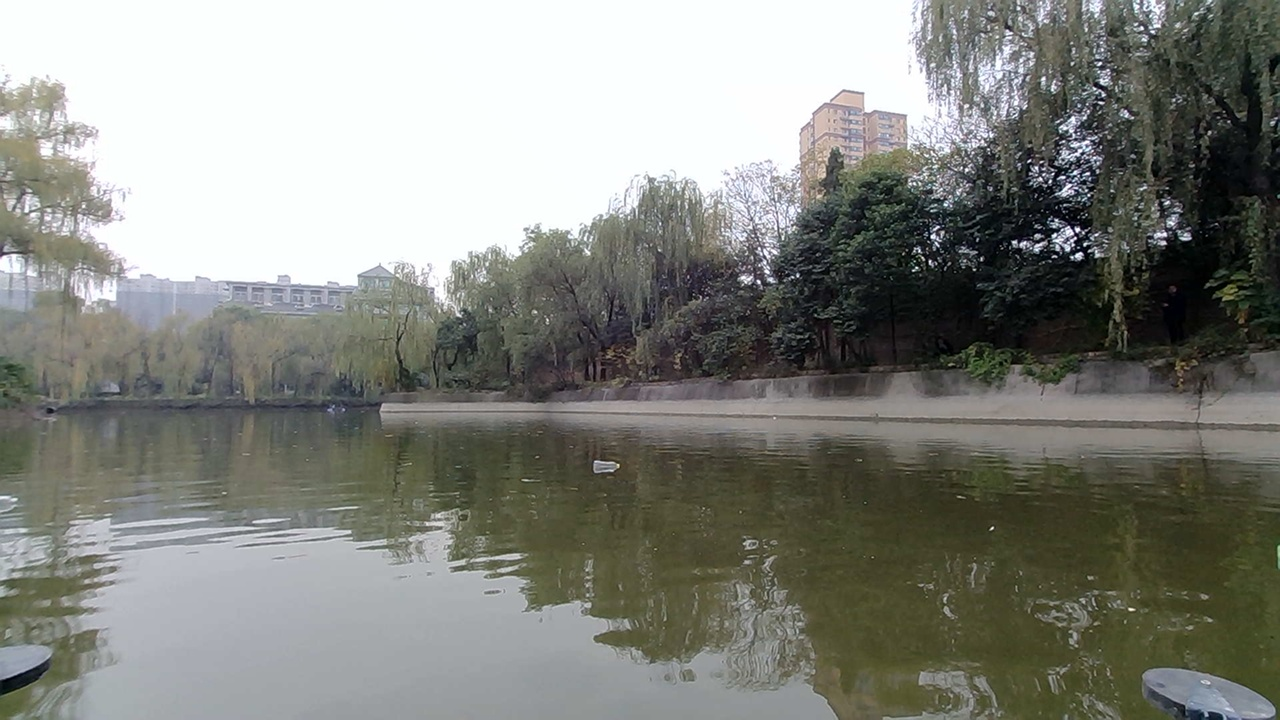bottle: (581, 444, 636, 483)
